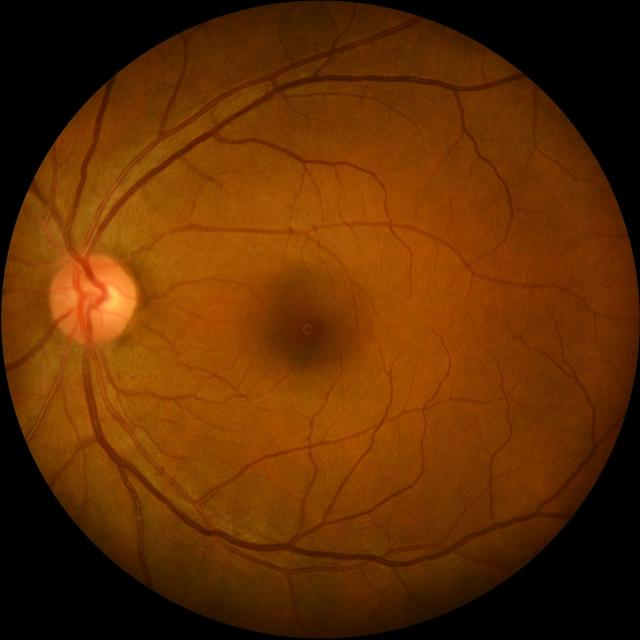OC: (84, 281, 120, 317)
OD: (50, 254, 135, 342)
